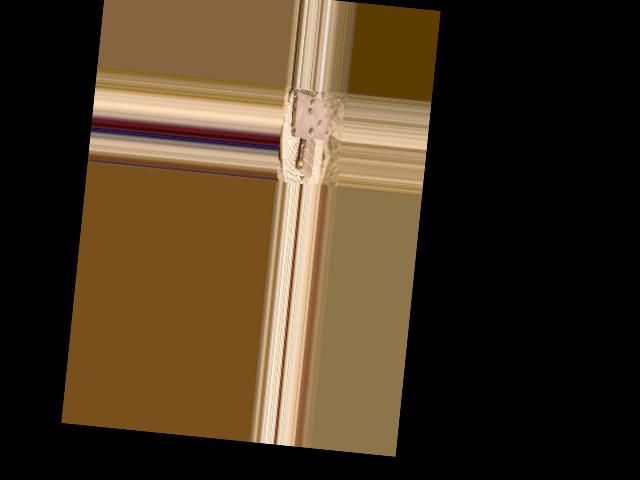chocolate: (289, 91, 333, 143)
